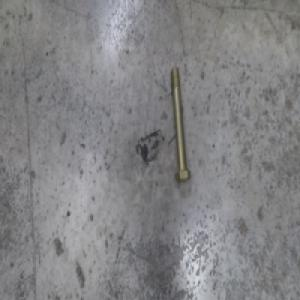Bolt: (169, 66, 191, 182)
